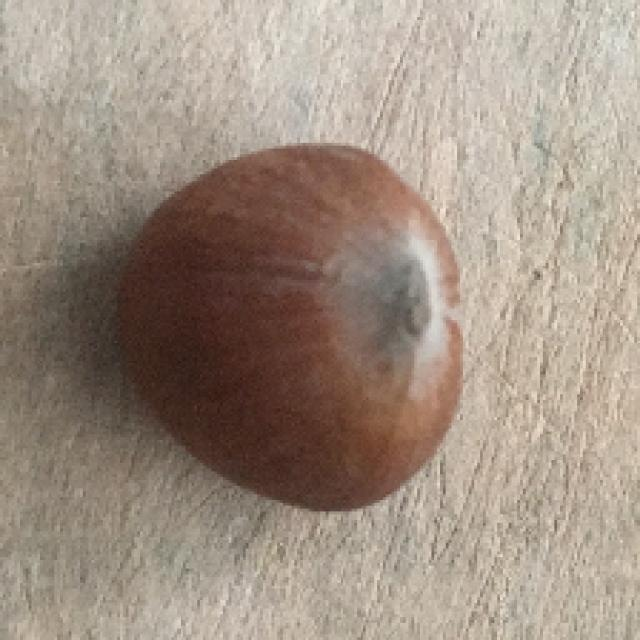qualityHazelnut: (121, 130, 473, 517)
